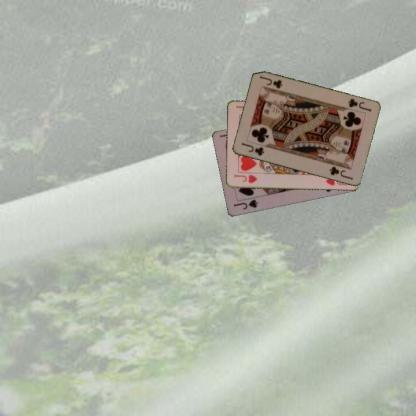Jc: (345, 96, 372, 113), (239, 140, 265, 157)
Jh: (231, 172, 258, 184)
Js: (231, 197, 259, 211)
